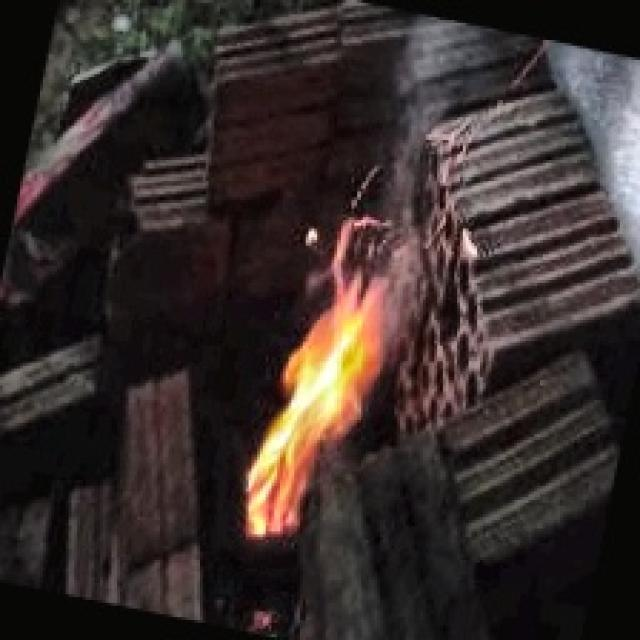fire: (199, 194, 444, 580)
